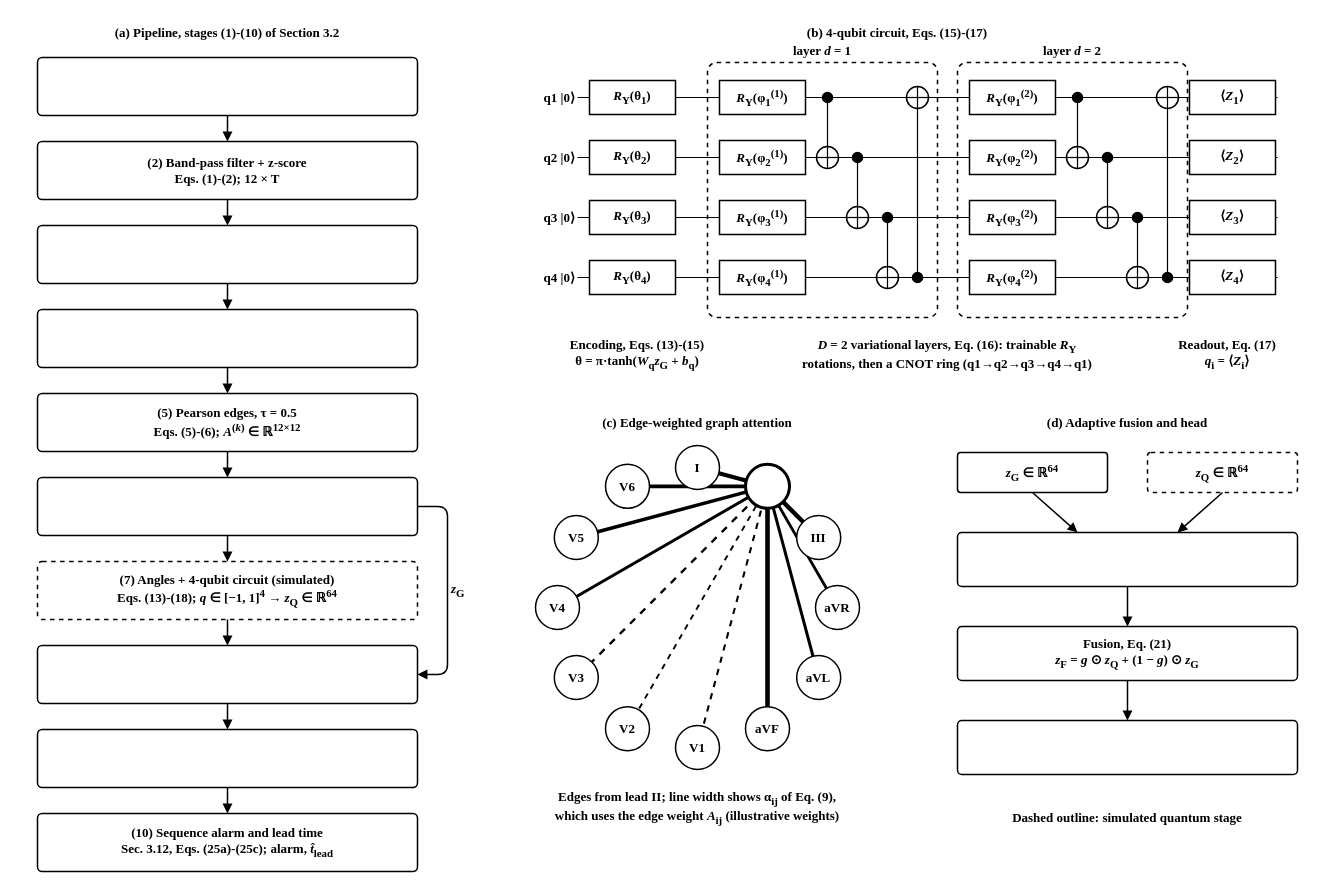
Some shapes in this 1324 by 889 pixel diagram are drawn without their labels. The shapes that lost their labels are listed below. From the top down, each one's centre as x and y in pixels, then its label:
At point 227,86: "(1) Input 12-lead ECG resampled to 510 Hz (Sec. 3.5); 12 × T".
At point 227,254: "(3) R-peaks on lead II, 0.6 s beats Eq. (3); 12 × 306 samples per beat".
At point 227,338: "(4) Node features Eq. (4); X ( k ) ∈ ℝ 12×4".
At point 767,485: "II".
At point 227,506: "(6) 3 edge-weighted GAT layers + readout Eqs. (7)-(12), M heads; z G ∈ ℝ 64".
At point 1127,559: "Gate, Eqs. (19)-(20) g = σ( W g [ z G ∥ z Q ] + b g )".
At point 227,674: "(8) Sigmoid gate and fusion Eqs. (19)-(21); z F ∈ ℝ 64".
At point 227,758: "(9) Classifier + threshold δ Eqs. (22)-(23); one risk score ŷ per beat".
At point 1127,747: "Head, Eqs. (22)-(23) ŷ = σ( W c z F + b c ), alarm if ŷ > δ".
